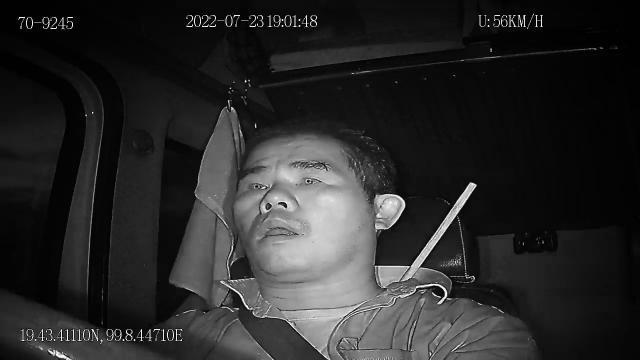SafeDriving: (290, 165, 330, 192), (240, 172, 274, 197)
Seatbelt: (236, 306, 330, 360)
